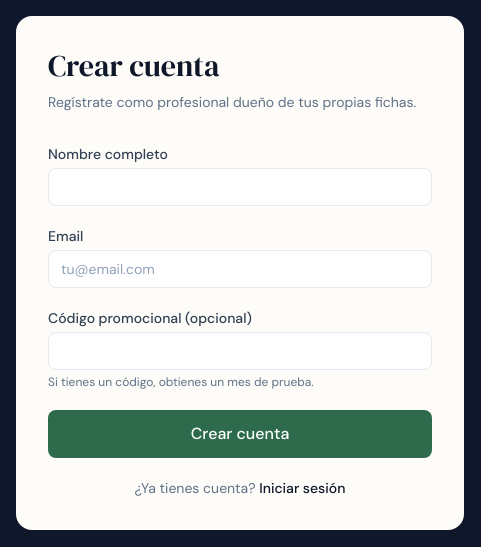
Test case: SignupPage — registro abierto (suscripciones encendidas, issue #611) › no pide invitación y envía el código promocional cuando se escribe
Type "Ana Pérez" into the field labelled "Nombre completo" at (240, 187), box [48,168,432,206]
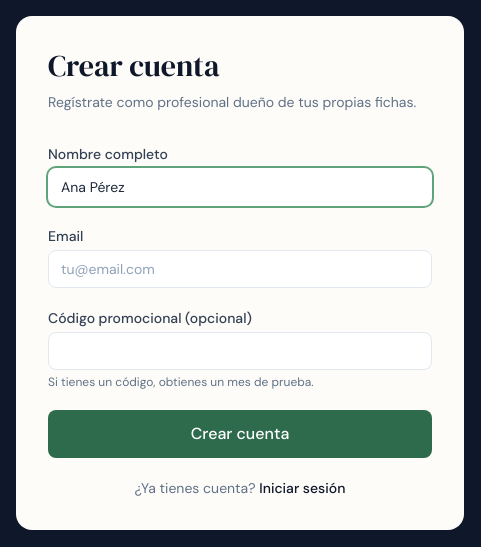
Type "ana@umbral.cl" into the field labelled "Email" at (240, 269), box [48,250,432,288]
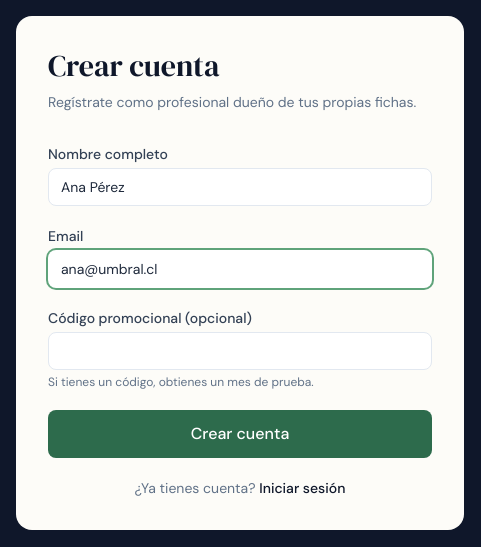
Type "FLYER-1" into the field labelled "Código promocional (opcional)" at (240, 351), box [48,332,432,370]
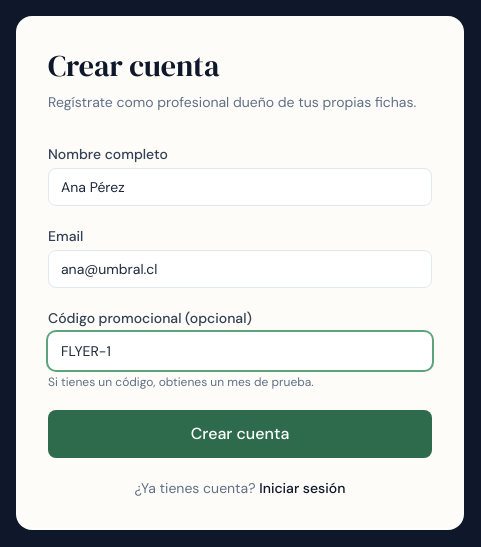
Click the button "Crear cuenta" at (240, 434), box [48,410,432,458]
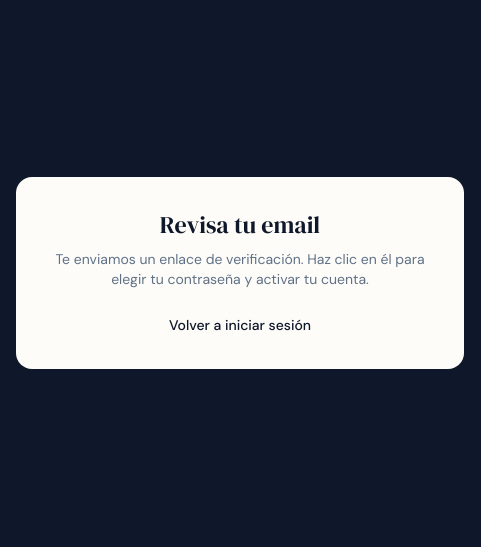
Now the heading "Revisa tu email" is shown, box [160,208,320,241]
